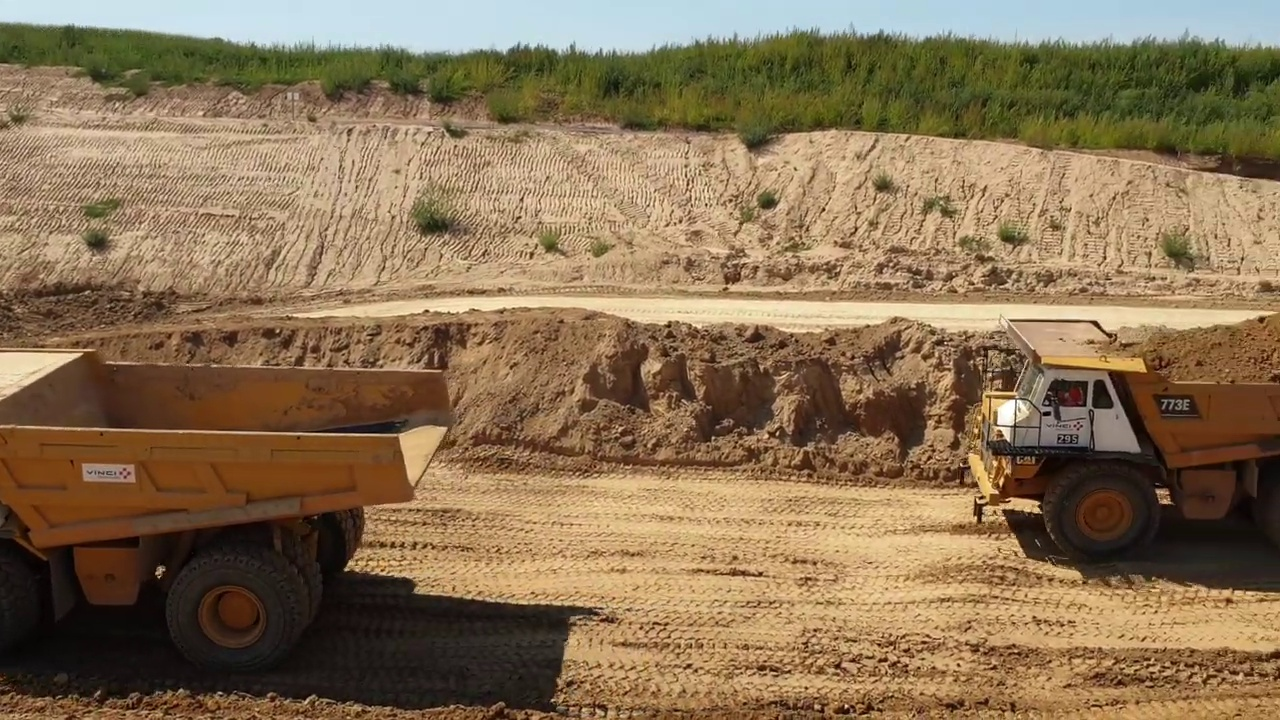truck: (2, 341, 460, 683), (963, 305, 1280, 565)
